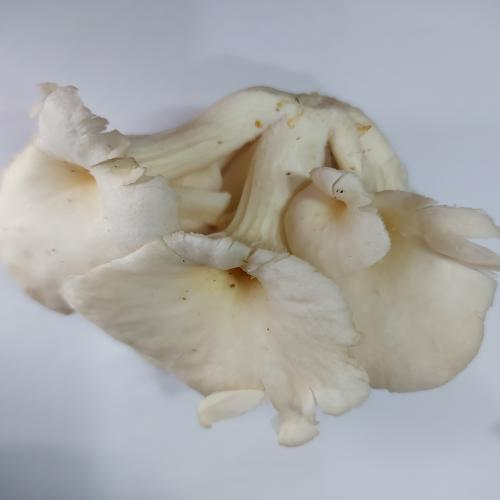Oyster Mushroom: (2, 81, 498, 447)
